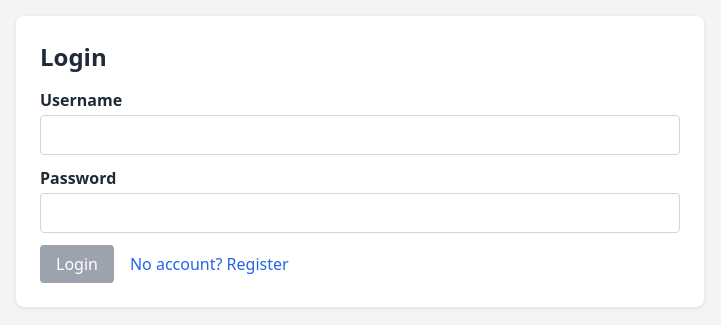
it: LoginComponent › submit button is disabled while form is invalid
The width and height of the screenshot is (721, 325).
expect the submit button is disabled: met, box x1=40 y1=245 x2=114 y2=283
Type "bob" into the field with id "username" at coordinates (360, 135), box x1=40 y1=115 x2=680 y2=155
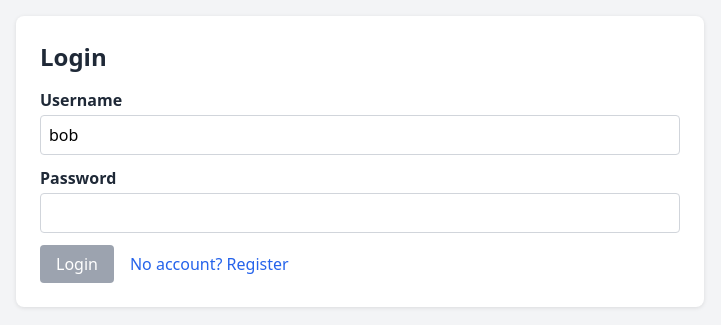
Type "secret" into the password field labelled "Password" at coordinates (360, 213), box x1=40 y1=193 x2=680 y2=233
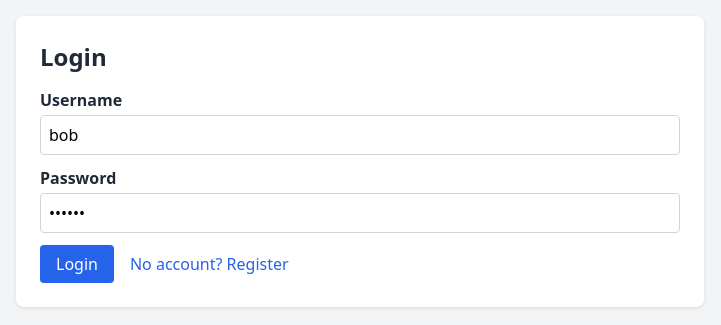
expect the submit button is enabled: met, box x1=40 y1=245 x2=114 y2=283
